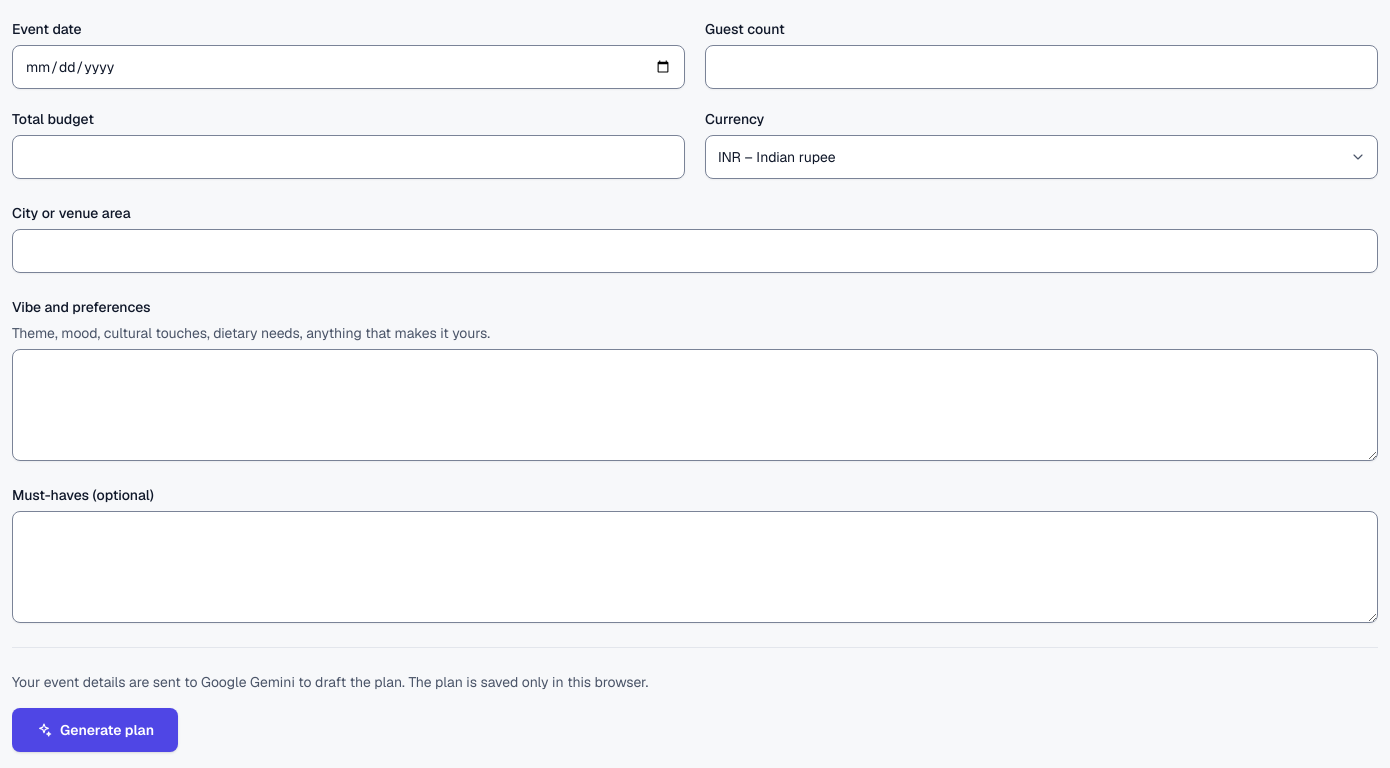
Test: intake form guidance and error summary › links every invalid field from the summary in form order
(page scrolled)
Click the button "Generate plan".
click(95, 730)  # box [12,708,178,752]
(page scrolled)
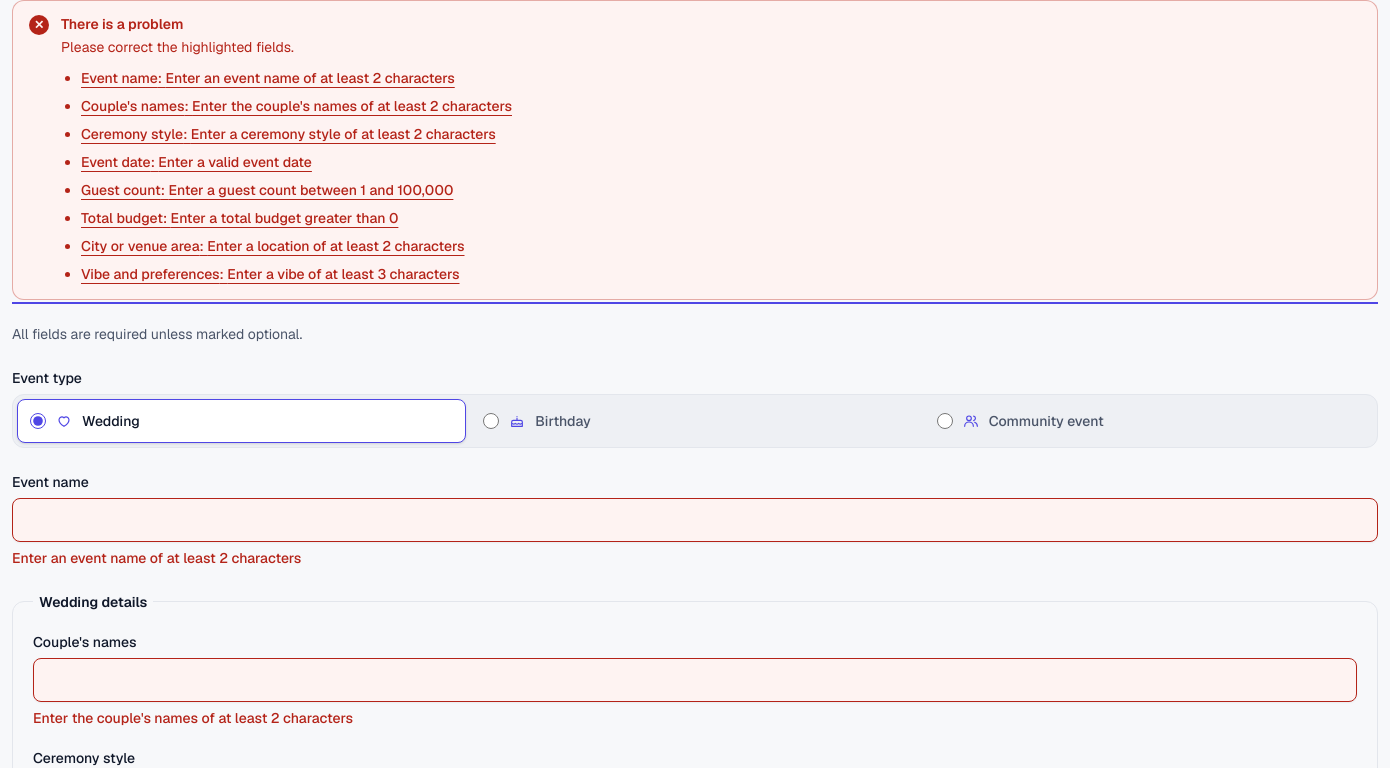
Expected: the link "Event name: Enter an event name of at least 2 characters" is shown, [81,66,455,90]
